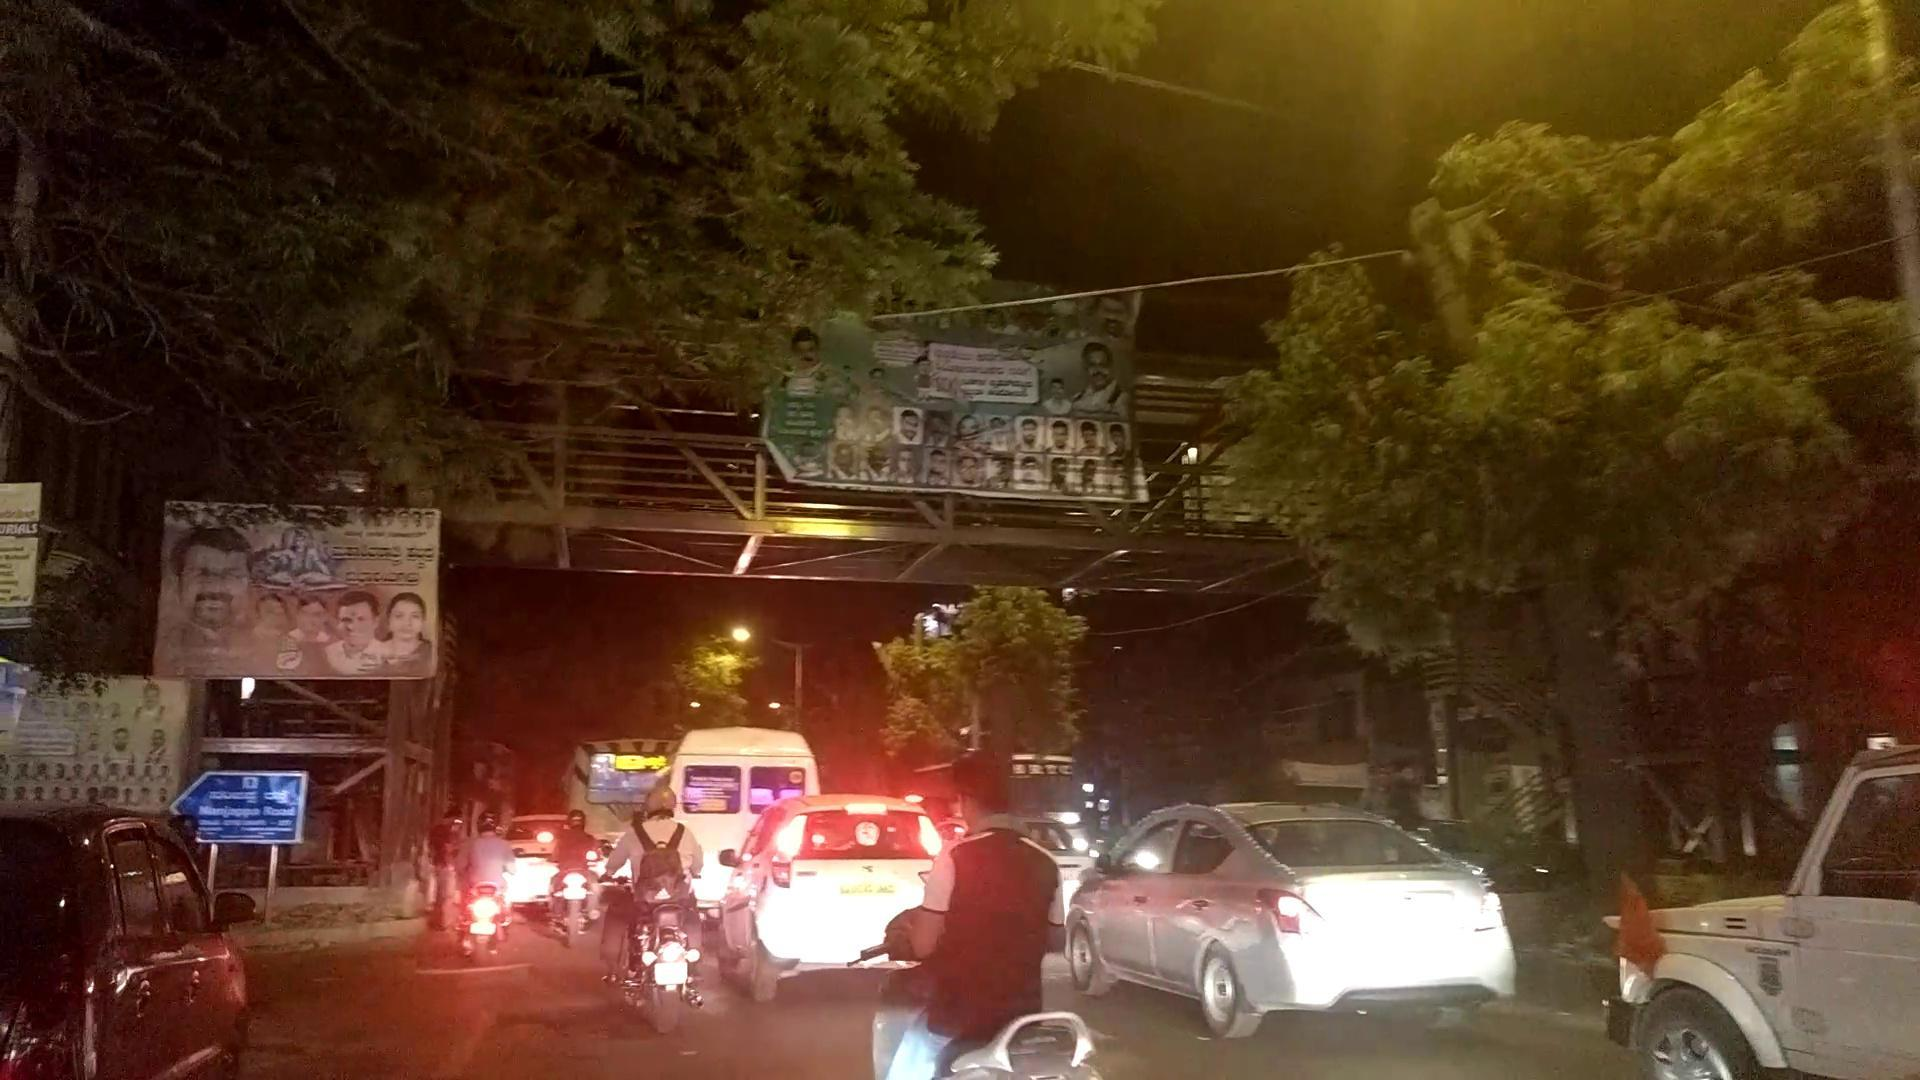on: (131, 0, 1903, 1080)
